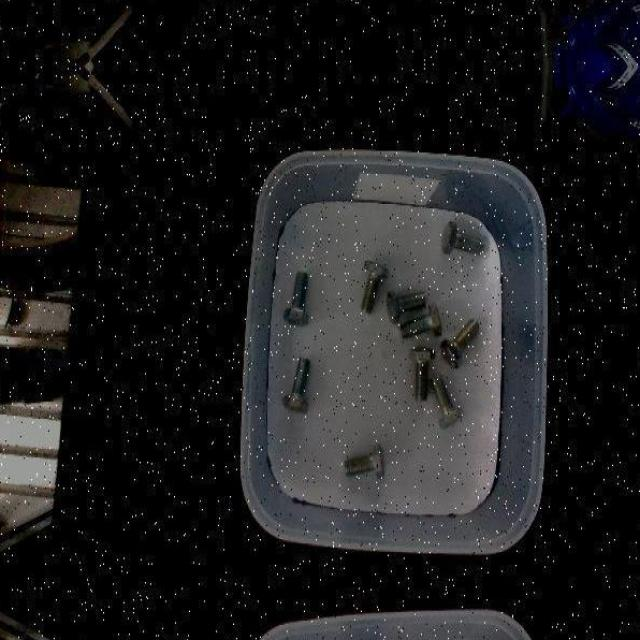screw: (440, 318, 480, 368), (430, 372, 464, 428), (282, 354, 310, 412), (361, 260, 389, 316), (344, 444, 386, 481), (400, 302, 442, 339), (440, 220, 483, 255), (284, 270, 310, 326), (410, 346, 436, 402), (386, 288, 426, 322)
